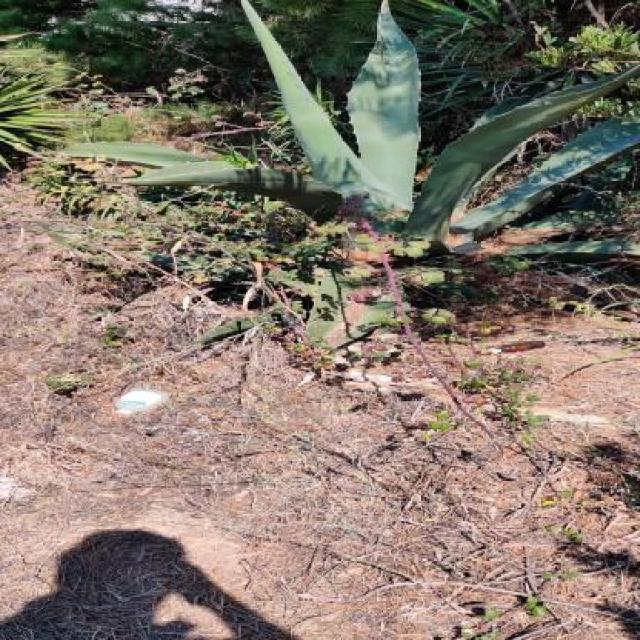plastic: (114, 388, 168, 415), (474, 339, 546, 355)
